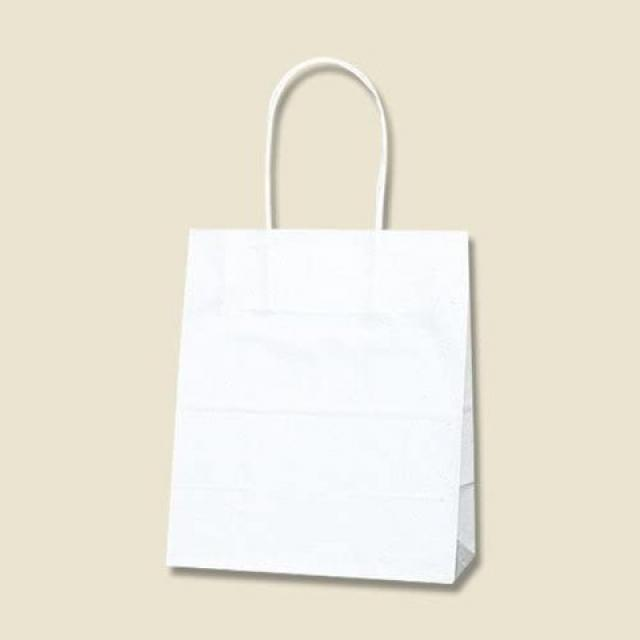paper bag: (160, 55, 483, 589)
